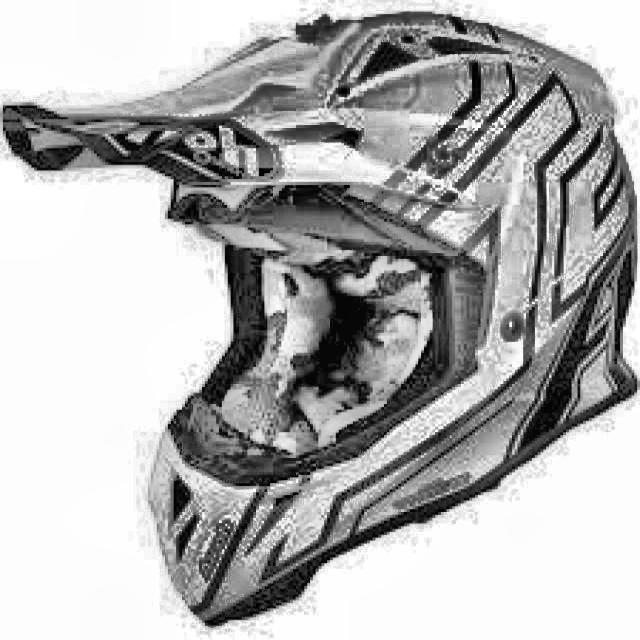Helmet: (0, 14, 640, 630)
